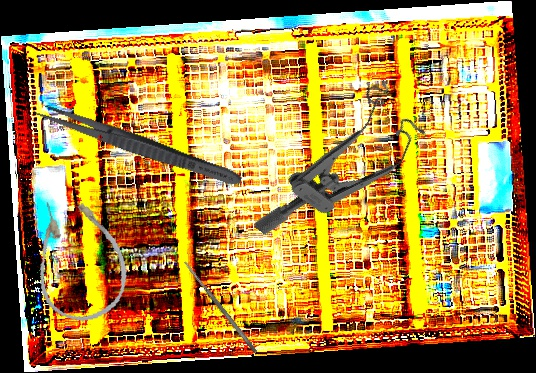Cannula: (22, 188, 137, 329)
Dressing Forceps: (31, 99, 245, 191)
Spatula Surgical: (182, 259, 259, 355)
Speculum: (252, 67, 437, 277)
